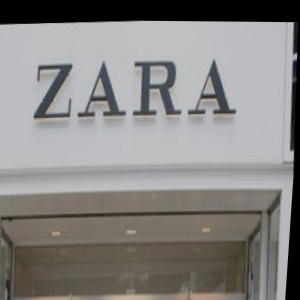zara: (218, 38, 264, 70)
